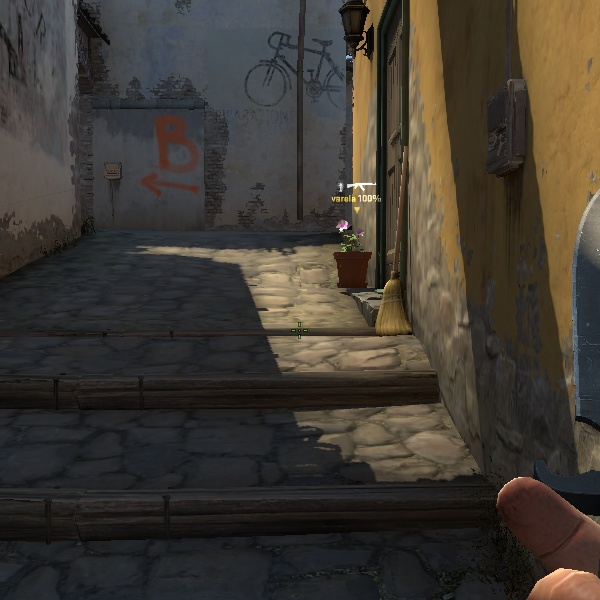t_body: (321, 219, 387, 330)
